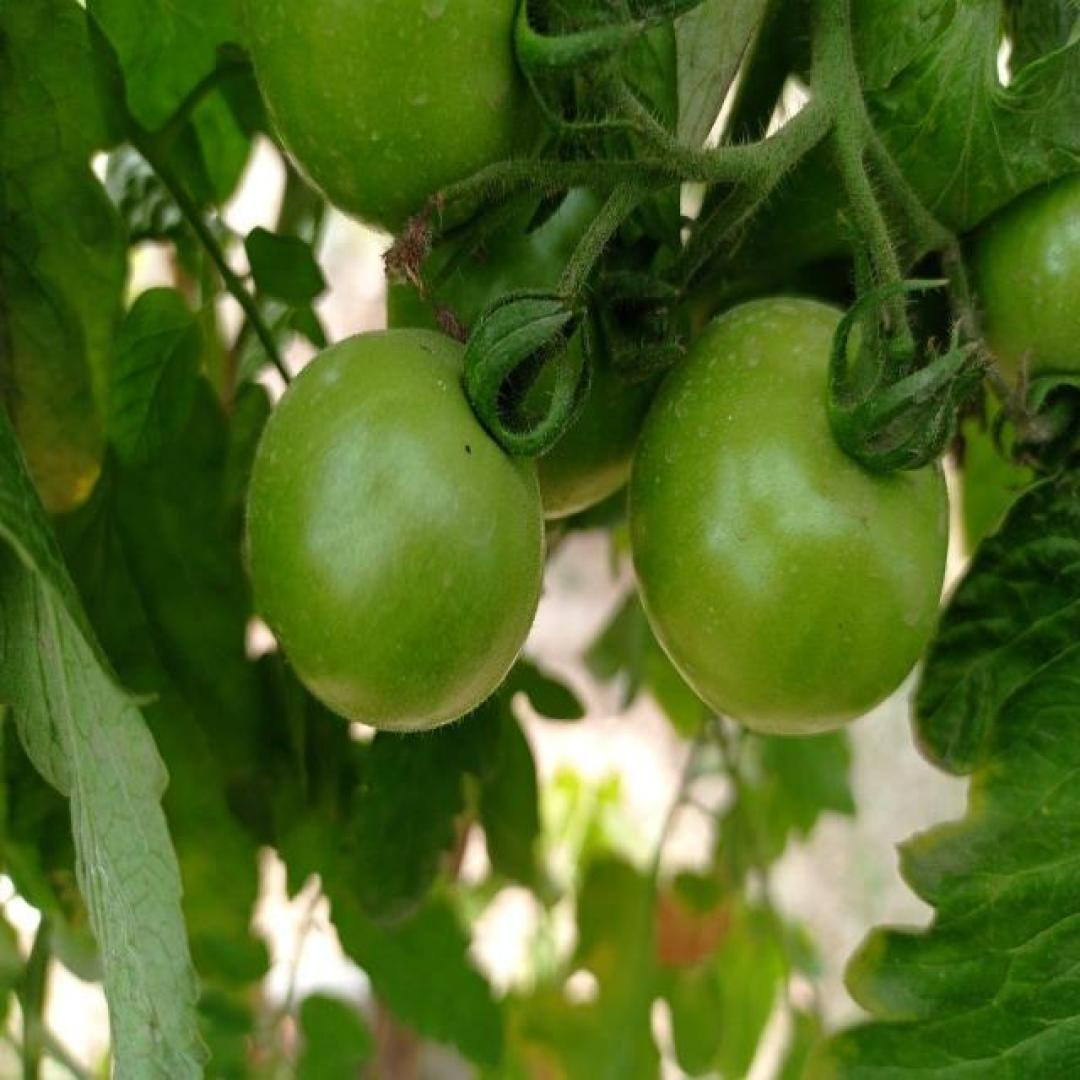mentah: (624, 290, 952, 739), (243, 322, 547, 736)
